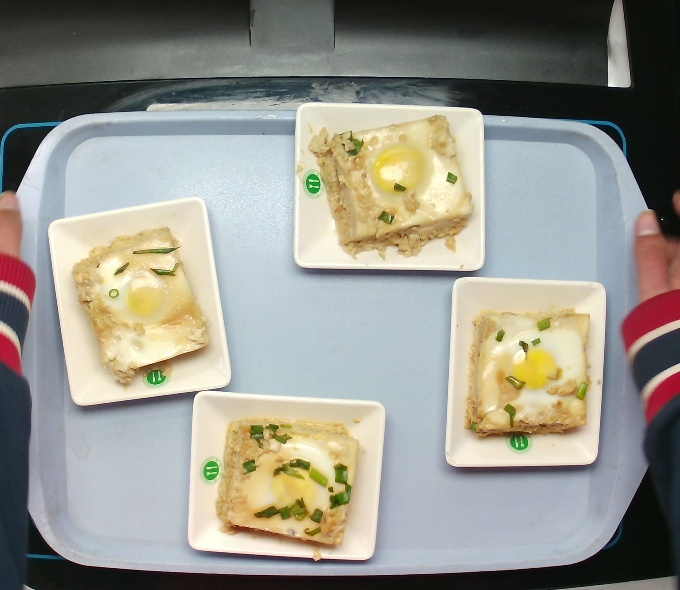wcq-RouMoZhengDan: (312, 110, 473, 264), (211, 407, 356, 565), (71, 226, 210, 385), (461, 302, 596, 449)
